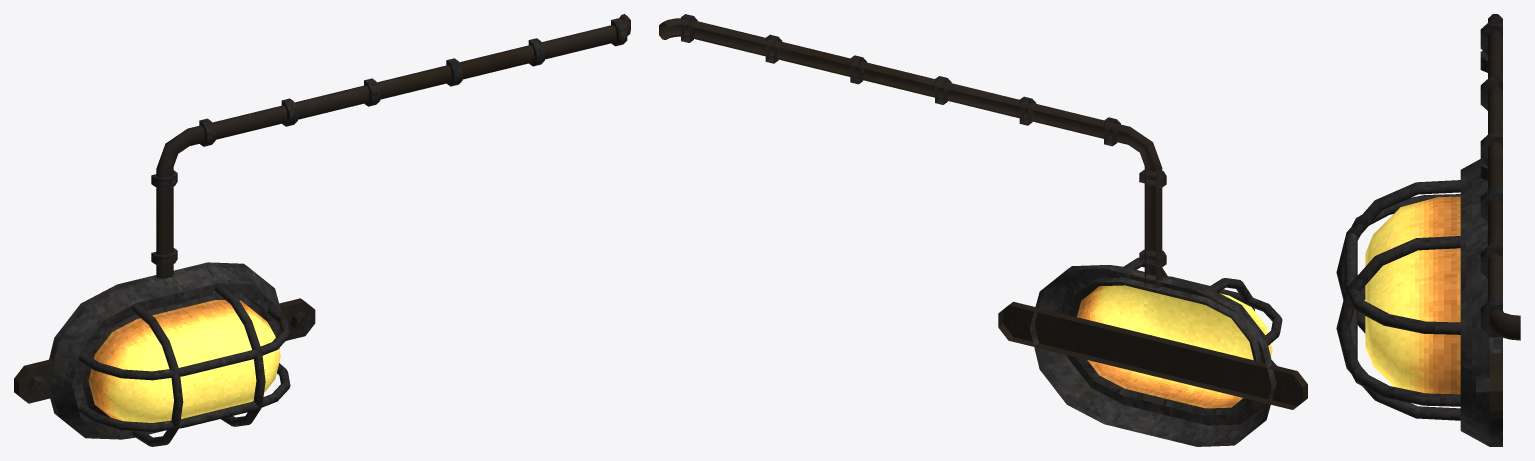
The model's file is lamp_1_on.glb.
3 renders of one model, left to right at view 1: azimuth 30°, elevation 25°; view 2: azimuth 150°, elevation 25°; view 3: azimuth 270°, elevation 25°, orthographic. The views are drawn at different scales.
Parts seen in each view (by area): view 1: lamp_1_on; view 2: lamp_1_on; view 3: lamp_1_on.
Part boxes in pixels (x1,y1,x2,y2): lamp_1_on: [14, 14, 630, 446]; lamp_1_on: [659, 14, 1307, 446]; lamp_1_on: [1336, 14, 1520, 446].
Size of the model in its own units: 0.7532 by 0.343 by 0.1393.
4 materials, 4 textured.
